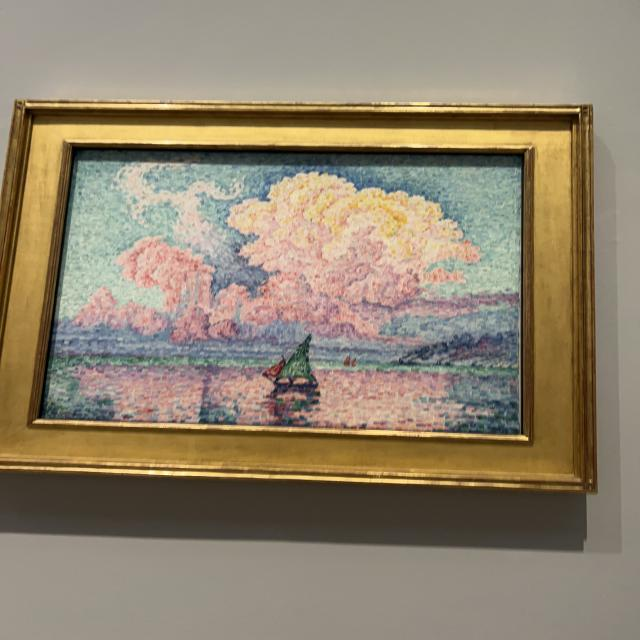sunrise: (38, 146, 521, 429)
